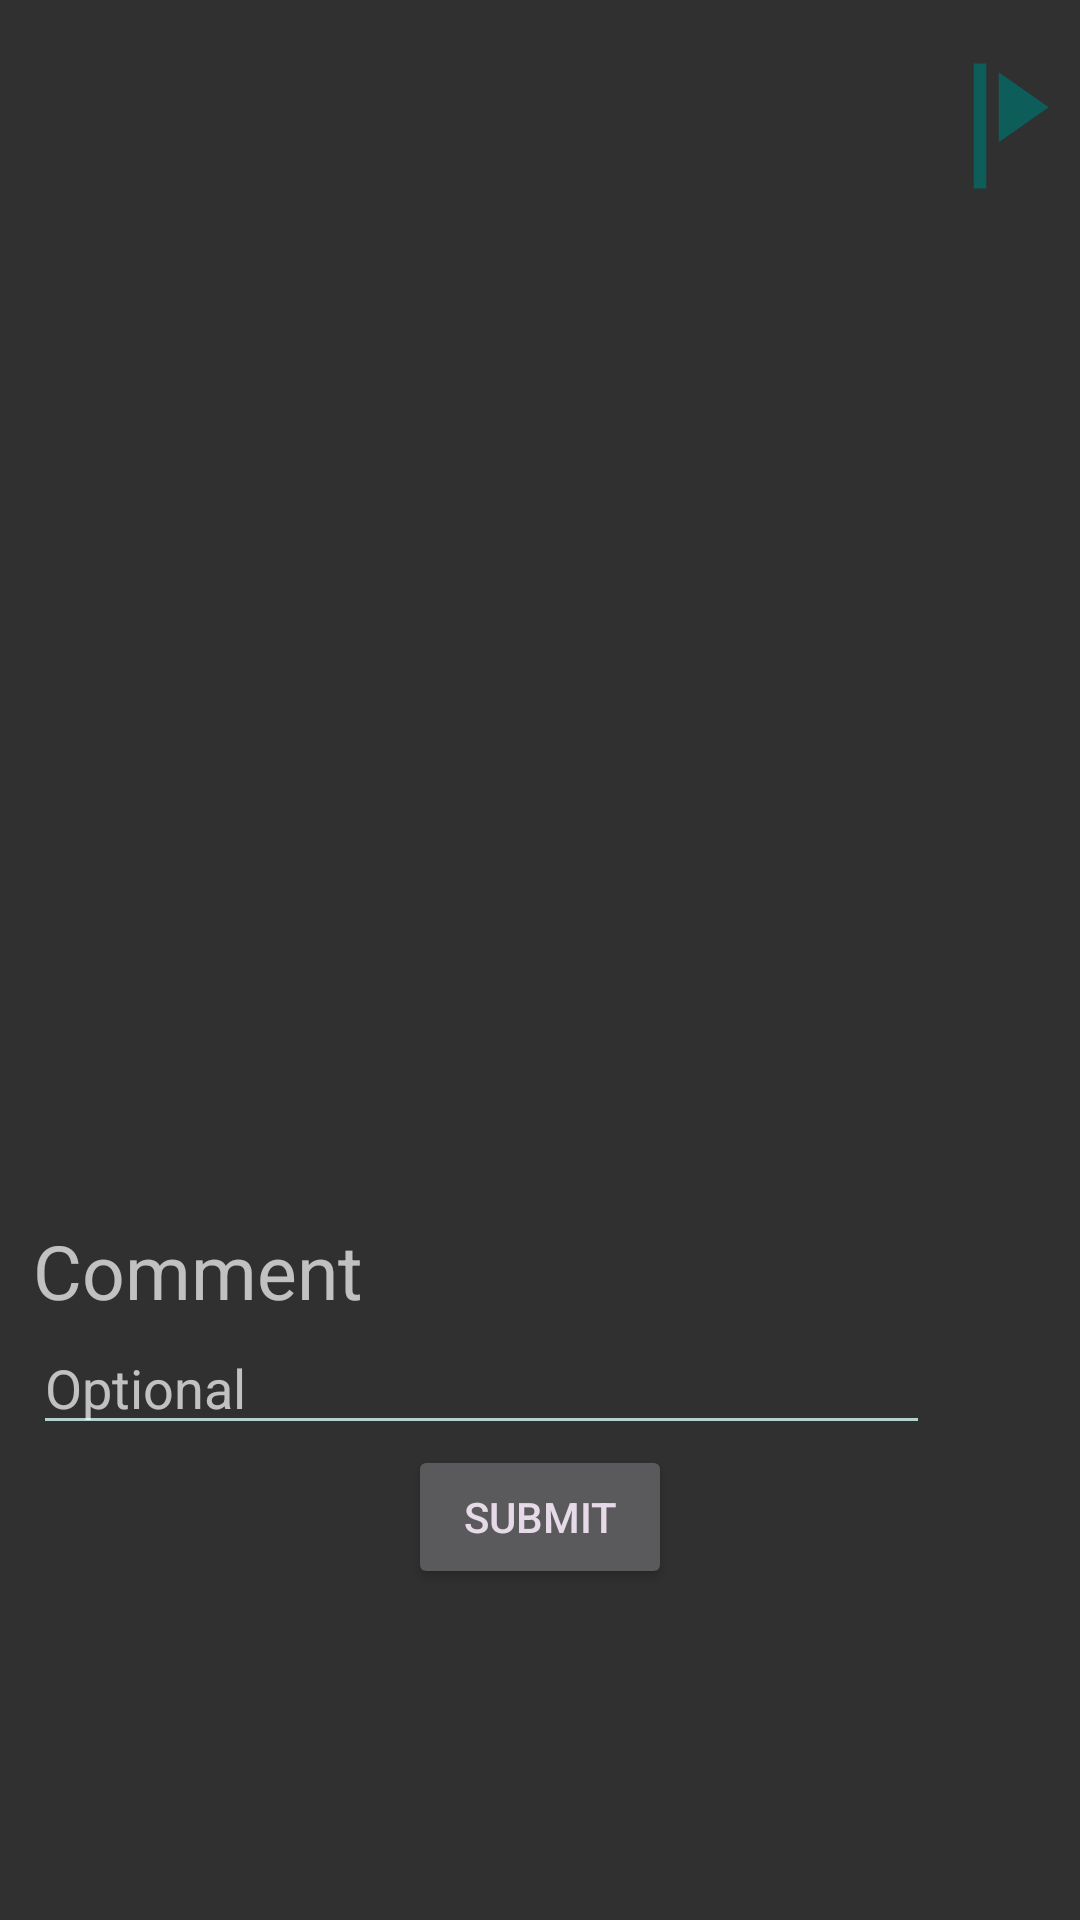

Where icons sit on this 1080px×1920px app screen, as (x1, y1, x2, y2):
flag: (974, 64, 1048, 188)
